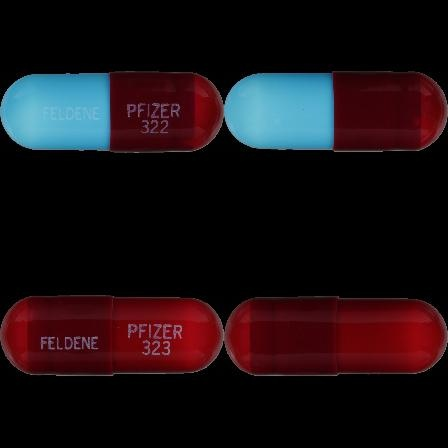59762-0140: (0, 0, 224, 224)
